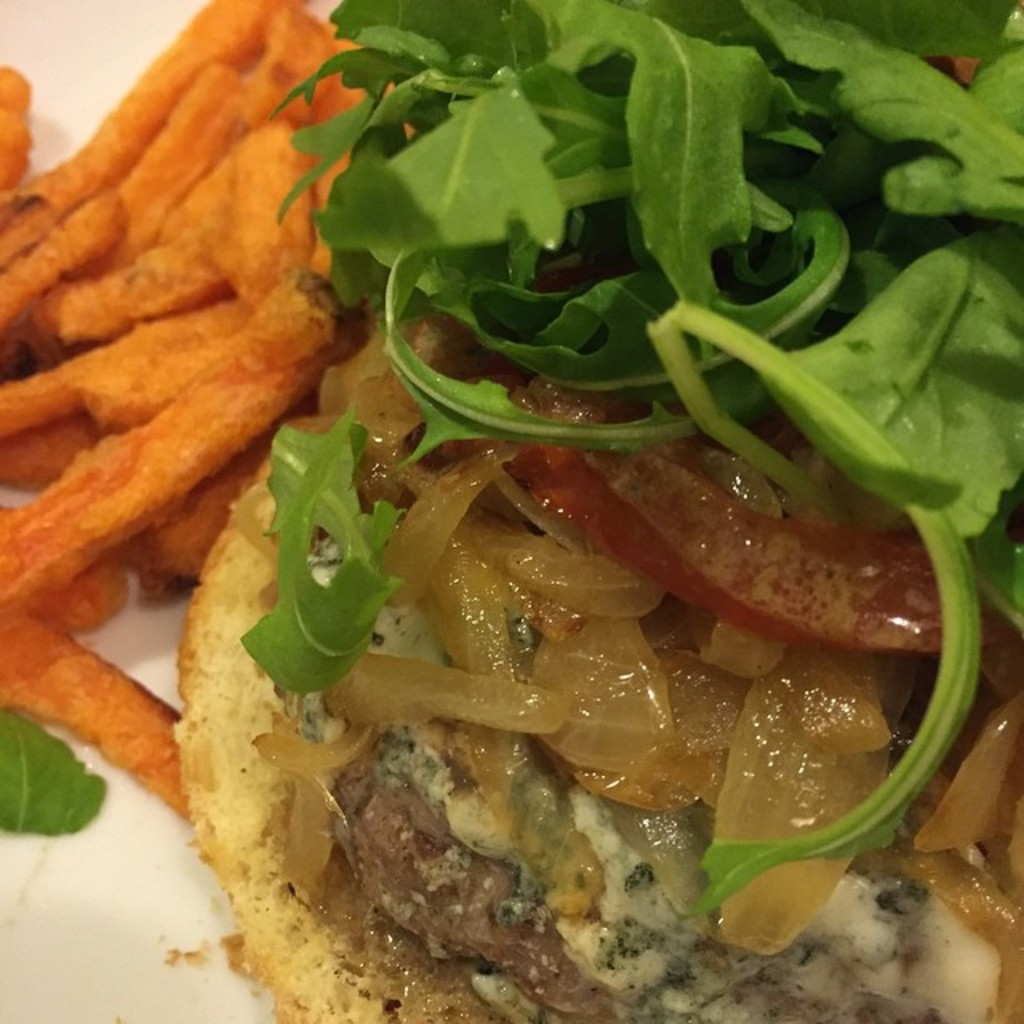French fries: (60, 0, 454, 345), (0, 270, 342, 606), (0, 0, 275, 259), (0, 609, 198, 825), (0, 297, 260, 430), (118, 416, 304, 600), (67, 305, 260, 433), (103, 59, 248, 228), (0, 185, 137, 350), (44, 528, 144, 652), (0, 414, 96, 497)
